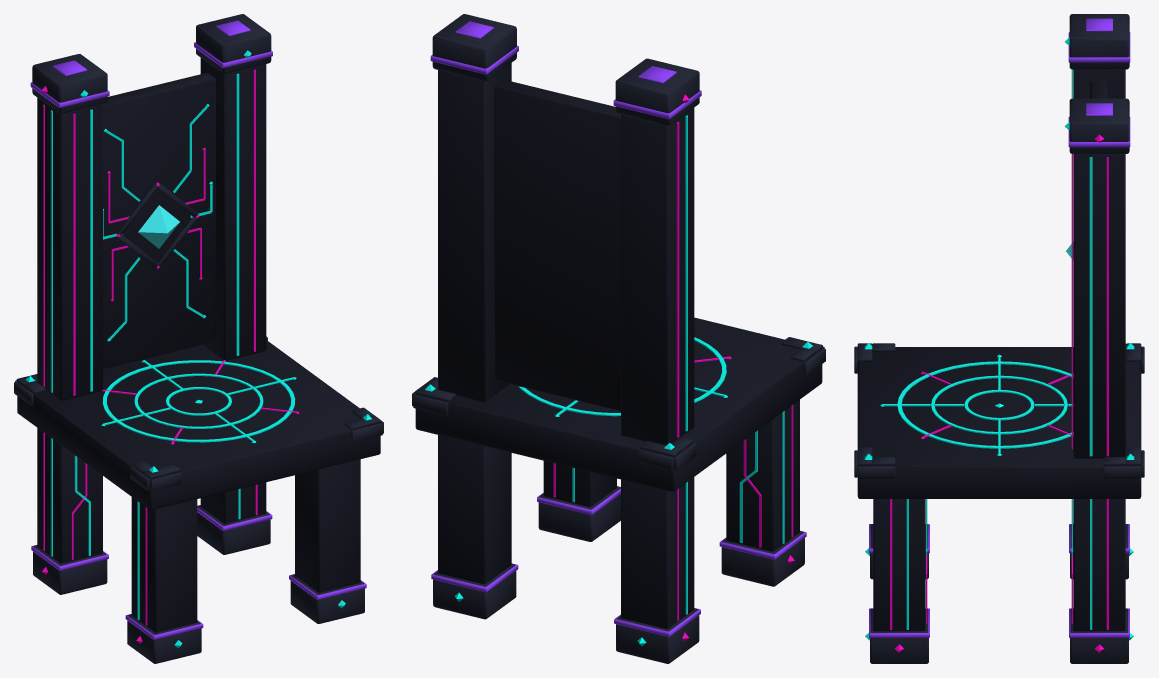
The model's file is CyberCoreChair_Baked.fbx.
3 renders of one model, left to right at view 1: azimuth 30°, elevation 25°; view 2: azimuth 150°, elevation 25°; view 3: azimuth 270°, elevation 25°, orthographic. The views are drawn at different scales.
Parts seen in each view (by area): view 1: CyberCoreChair_Baked; view 2: CyberCoreChair_Baked; view 3: CyberCoreChair_Baked.
Part boxes in pixels (left/top/right/bottom): CyberCoreChair_Baked: left=14, top=14, right=383, bottom=663; CyberCoreChair_Baked: left=412, top=14, right=825, bottom=663; CyberCoreChair_Baked: left=854, top=14, right=1144, bottom=663.
Size of the model in its own units: 0.696 by 1.44 by 0.696.
